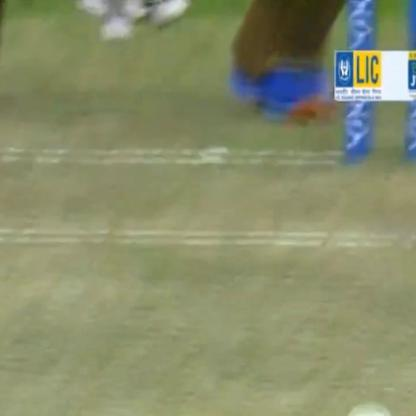ball: (339, 396, 392, 416)
